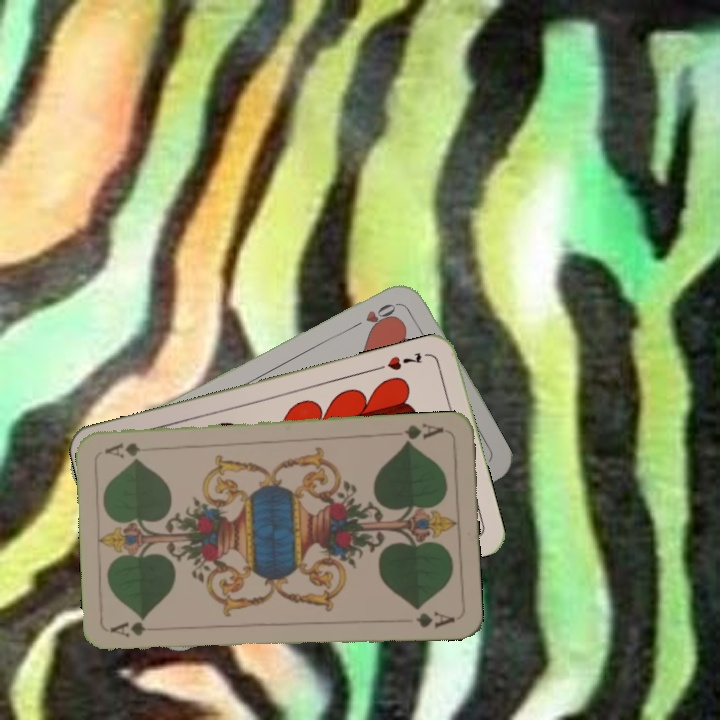GA: (107, 618, 167, 640), (400, 419, 446, 447)
H7: (383, 348, 425, 373)
HO: (347, 298, 403, 332)
